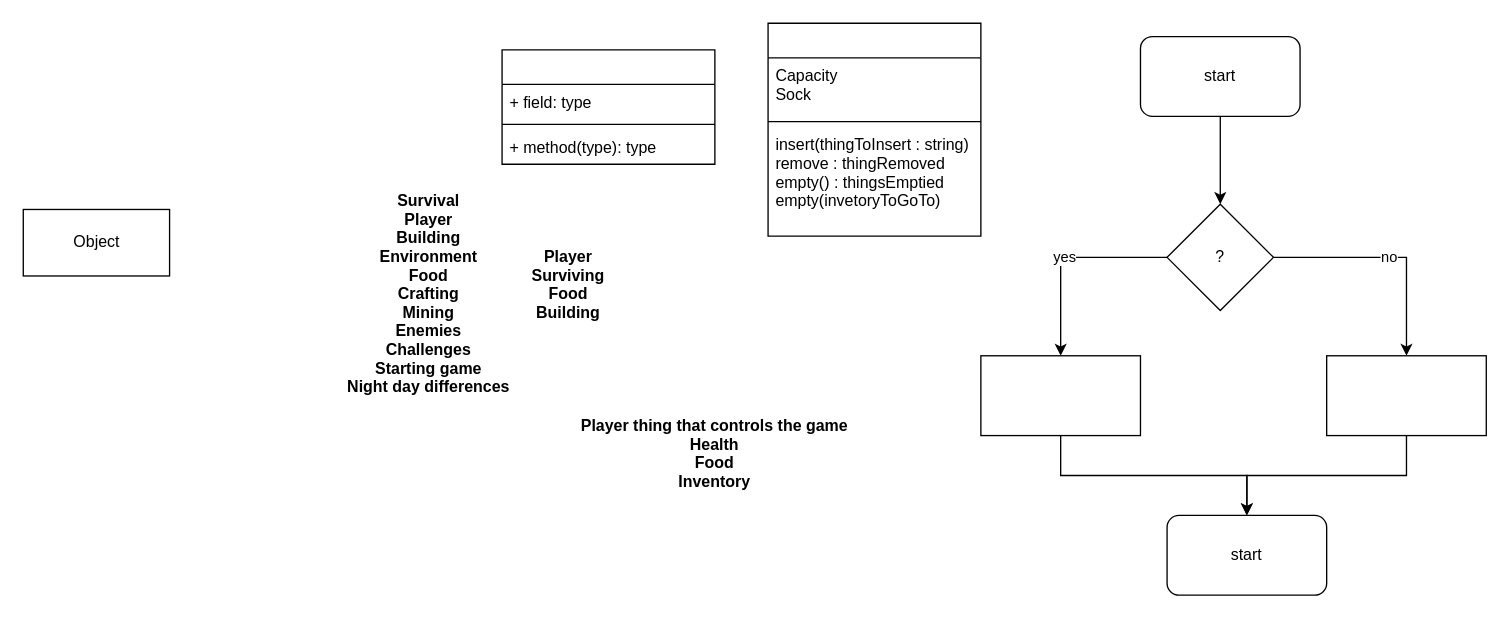
Image size: 1510x618. Some labels were removed from this diagram. Each missing label, with the box of its shape:
Classname: (501, 49, 715, 164)
Inventory: (767, 22, 981, 236)
